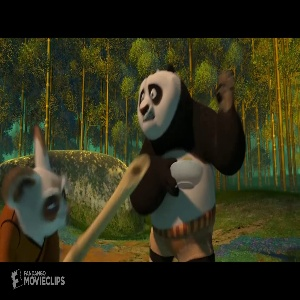po: (126, 62, 247, 261)
shifu: (2, 124, 70, 262)
